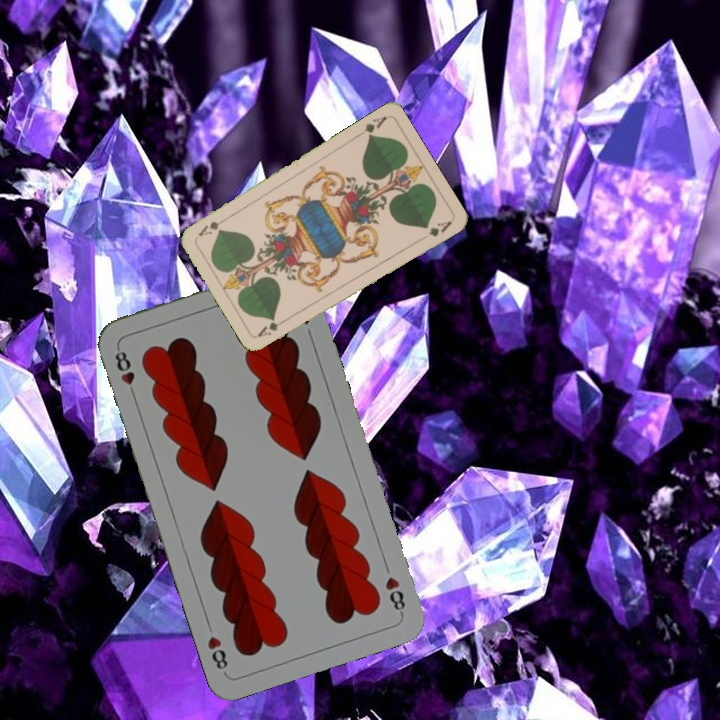GA: (353, 112, 389, 141), (254, 314, 292, 340)
H8: (111, 343, 139, 401), (381, 572, 408, 617)
